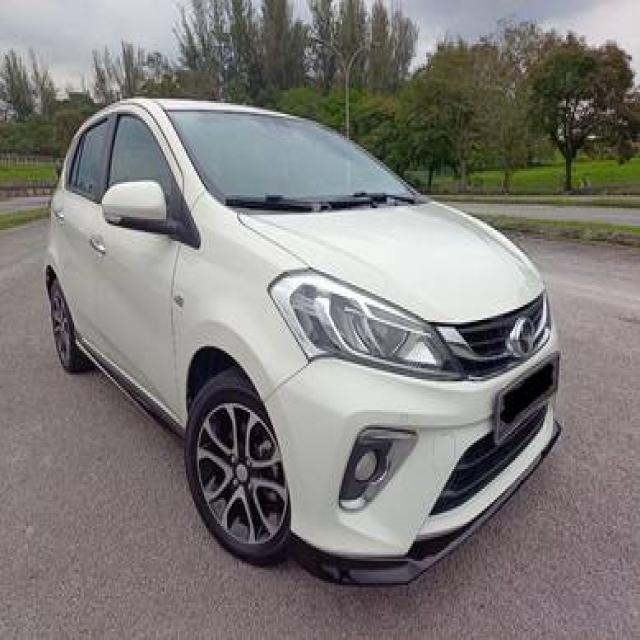PeroduaMyvi: (42, 92, 562, 587)
